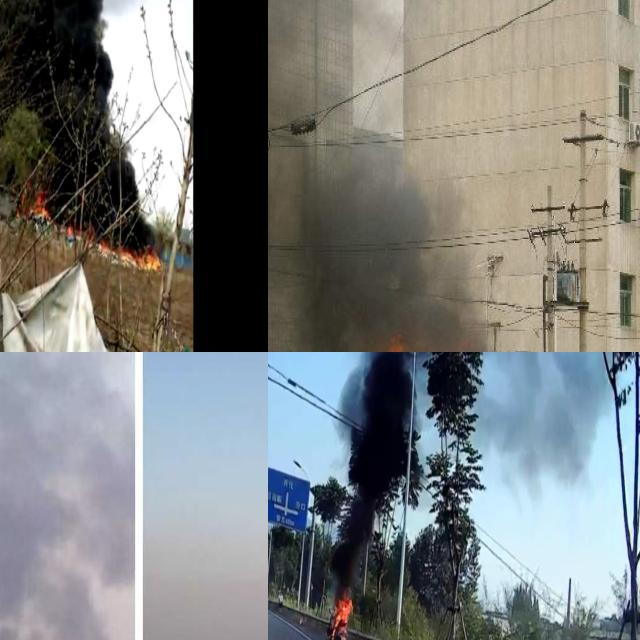fire: (21, 186, 165, 272), (328, 591, 351, 640), (32, 192, 50, 218)
smoke: (268, 0, 488, 352), (329, 352, 602, 595), (0, 0, 157, 254), (0, 352, 134, 640)
